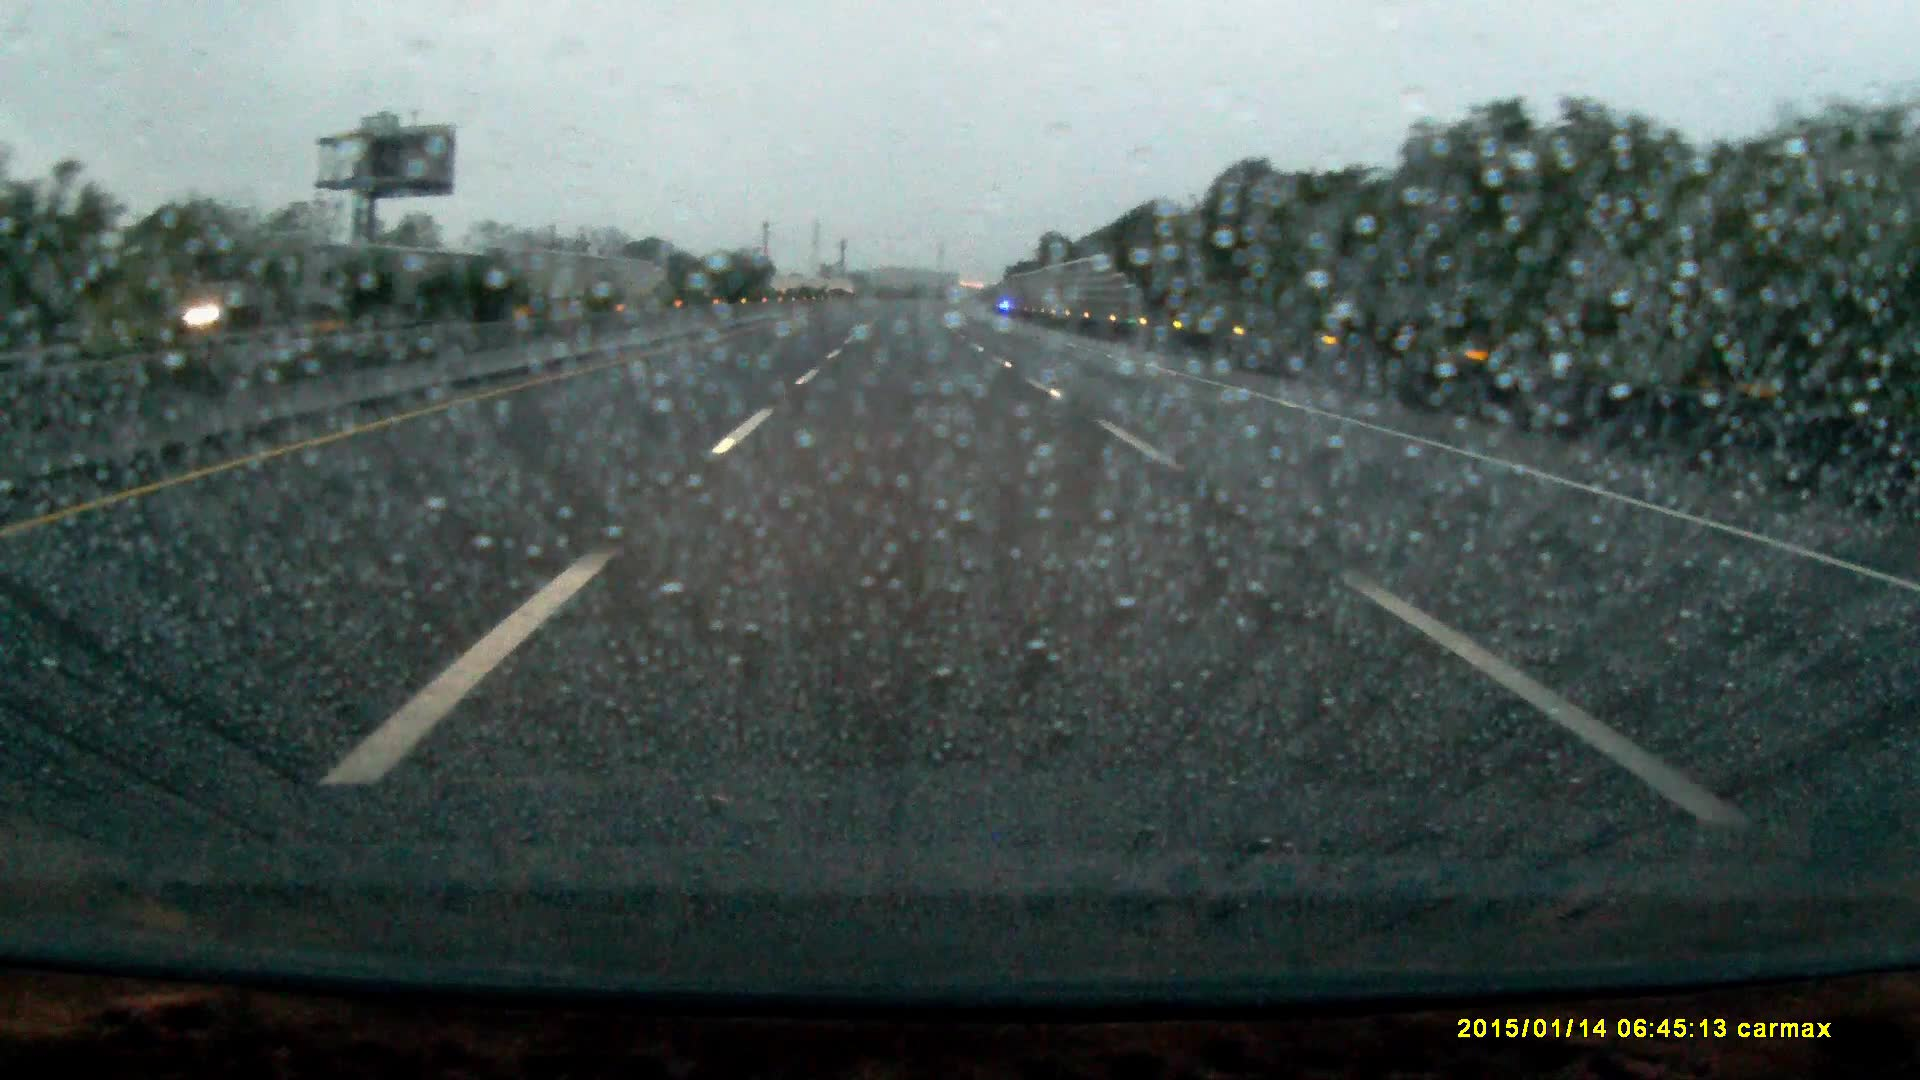vehicle: (131, 280, 272, 336)
